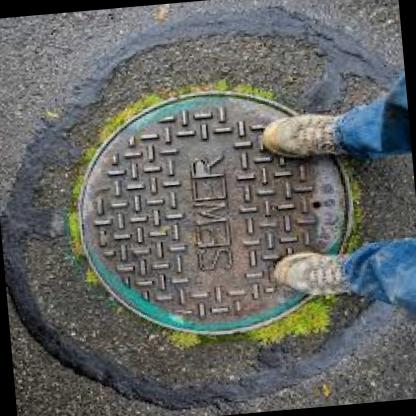manholes: (53, 52, 395, 368)
